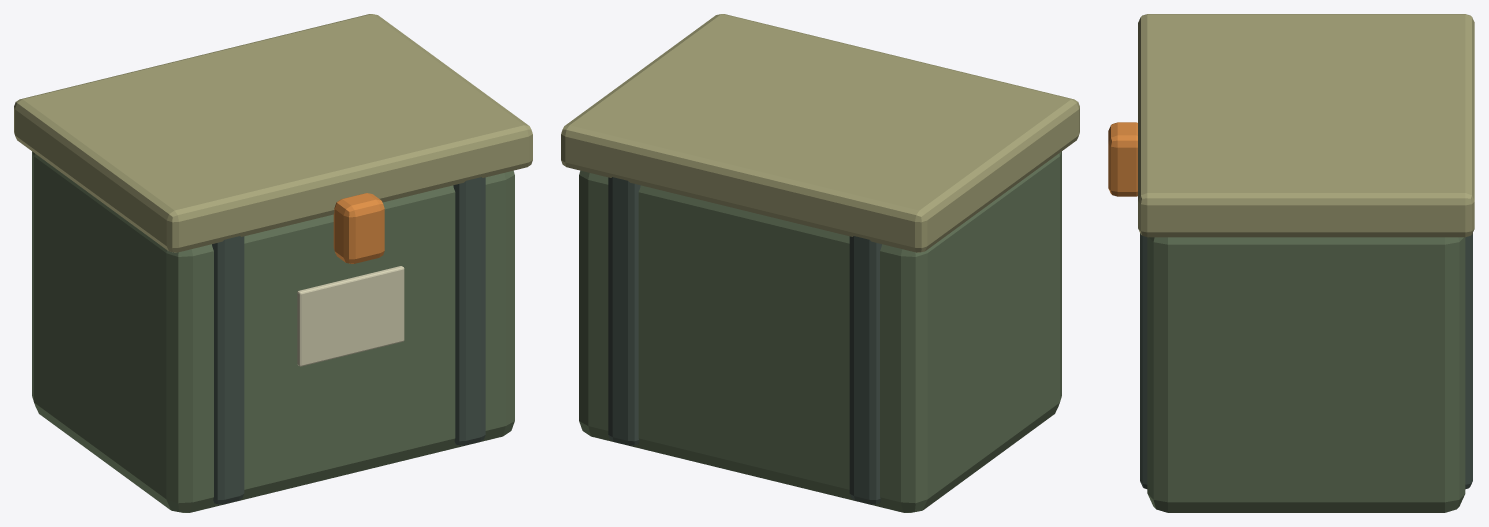
The model's file is crate.glb.
3 renders of one model, left to right at view 1: azimuth 30°, elevation 25°; view 2: azimuth 150°, elevation 25°; view 3: azimuth 270°, elevation 25°, orthographic. The views are drawn at different scales.
Visible parts, largest first — view 1: supply_box, lid.001, label, strap, strap.001, latch; view 2: supply_box, lid.001, strap, strap.001; view 3: supply_box, lid.001, strap.001, latch.
Boxes of the visible parts, <box> form: supply_box: <box>32,151,514,512</box>; lid.001: <box>14,14,532,252</box>; label: <box>297,266,404,366</box>; strap: <box>212,236,244,504</box>; strap.001: <box>453,177,485,445</box>; latch: <box>333,193,384,263</box>; supply_box: <box>579,151,1061,512</box>; lid.001: <box>561,14,1079,252</box>; strap: <box>849,236,881,504</box>; strap.001: <box>608,177,640,445</box>; supply_box: <box>1147,237,1465,512</box>; lid.001: <box>1138,14,1474,237</box>; strap.001: <box>1140,233,1472,489</box>; latch: <box>1108,122,1137,196</box>.
Bounding box in the file's own units: 1.18 × 0.97 × 0.98.
